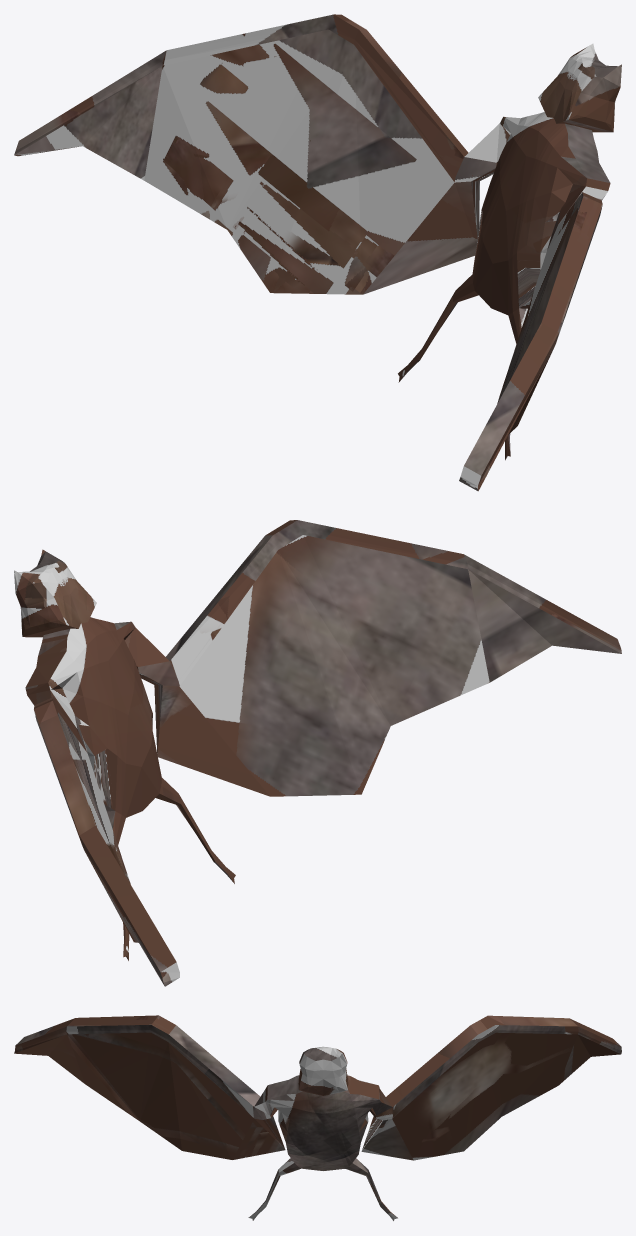
The model's file is Enemigo110.obj.
3 views of the same model, one above another, from view 1: azimuth 30°, elevation 25°; view 2: azimuth 150°, elevation 25°; view 3: azimuth 270°, elevation 25° (orthographic). The views are drawn at different scales.
Visible parts, largest first — view 1: Plano; view 2: Plano; view 3: Plano.
Part boxes in pixels (x1,y1,x2,y2): Plano: (14,14,621,491); Plano: (14,520,621,986); Plano: (14,1015,621,1220).
Size of the model in its own units: 0.8102 by 0.6815 by 1.72.
1 material, 1 textured.
